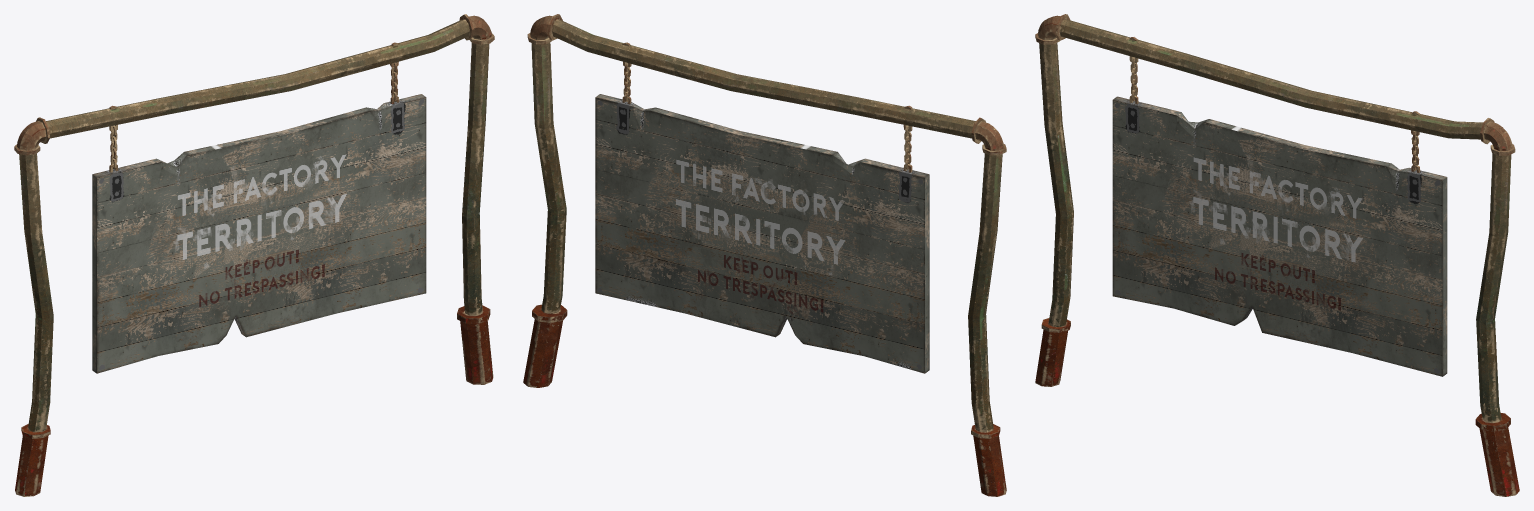
File: sign_diner.glb
3 views of the same model, side by side, from view 1: azimuth 30°, elevation 25°; view 2: azimuth 150°, elevation 25°; view 3: azimuth 330°, elevation 25° (orthographic).
Visible parts, largest first — view 1: Cube_Schild_0, Cube_Stange_0, Cube_Decal_0; view 2: Cube_Schild_0, Cube_Stange_0, Cube_Decal_0; view 3: Cube_Schild_0, Cube_Stange_0, Cube_Decal_0.
Boxes of the visible parts, bbox=[...] form: Cube_Schild_0: bbox=[92, 94, 426, 373]; Cube_Stange_0: bbox=[19, 19, 489, 432]; Cube_Decal_0: bbox=[14, 14, 494, 496]; Cube_Schild_0: bbox=[595, 94, 929, 373]; Cube_Stange_0: bbox=[531, 19, 1002, 432]; Cube_Decal_0: bbox=[523, 14, 1006, 496]; Cube_Schild_0: bbox=[1112, 96, 1447, 376]; Cube_Stange_0: bbox=[1039, 19, 1511, 422]; Cube_Decal_0: bbox=[1035, 14, 1519, 496].
Size of the model in its own units: 219 by 162 by 14.68.
Materials: 4 (3 with a texture image).
